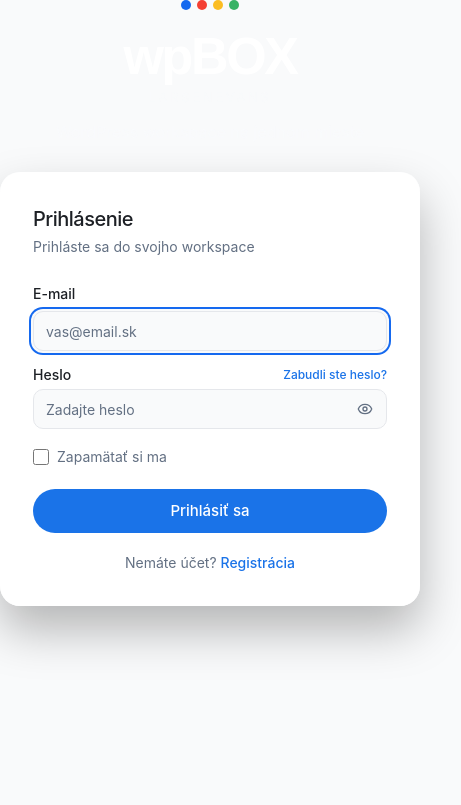
Test: AuthForm › switches to register and forgot views
This screenshot has width=461, height=805.
Click the button "Registrácia" at point(258, 563), box [220,553,295,573]
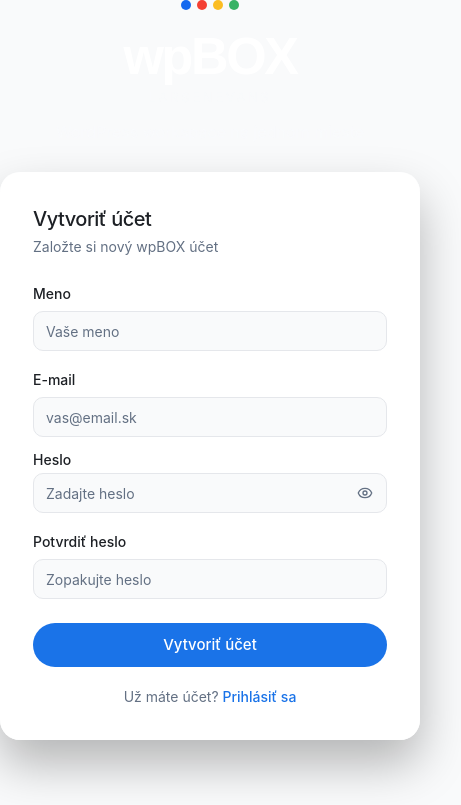
Now the heading "Vytvoriť účet" is shown, box [33,207,151,231]
Now the field labelled "Meno" is shown, box [33,311,387,351]
Click the button "Prihlásiť sa" at point(259, 697), box [222,687,296,707]
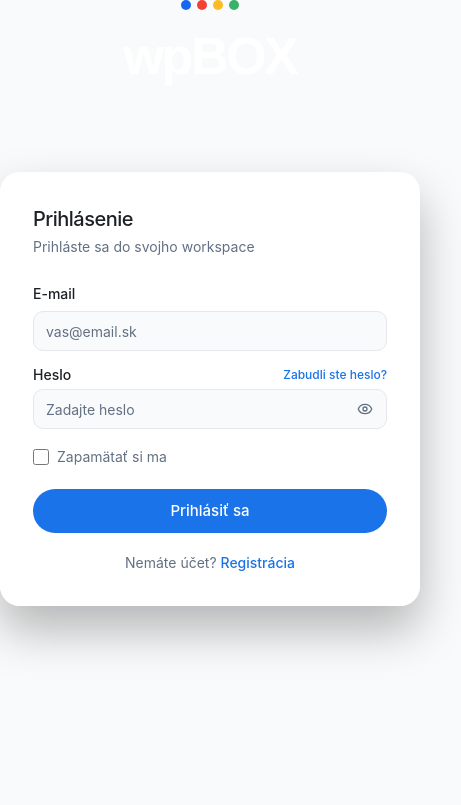
Now the heading "Prihlásenie" is shown, box [33,207,133,231]
Click the button "Zabudli ste heslo?" at point(335, 375), box [283,367,387,383]
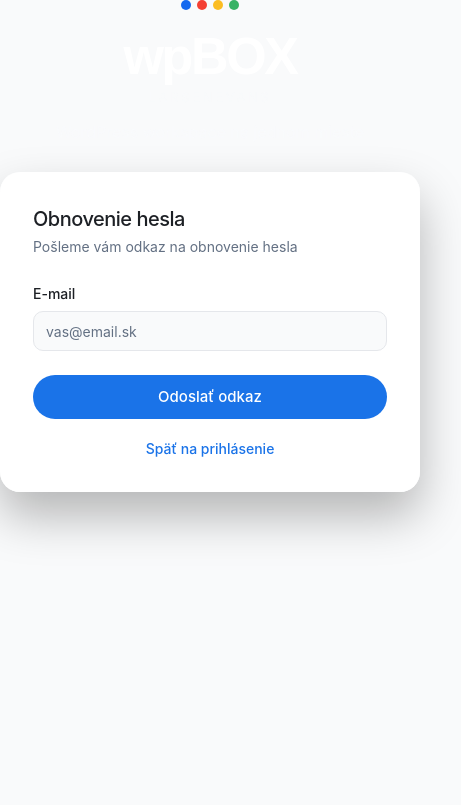
Now the heading "Obnovenie hesla" is shown, box [33,207,185,231]
Now the label labelled "Heslo" is gone
